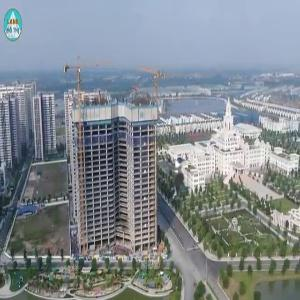drone: (97, 88, 268, 259)
